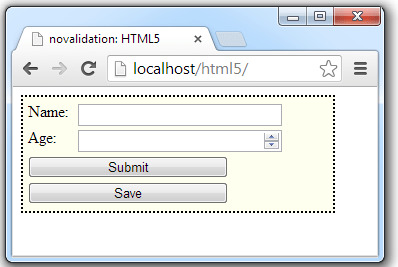_form_: (1, 1, 398, 267)
button: (28, 156, 229, 178), (28, 182, 228, 204)
field: (106, 55, 342, 82), (77, 102, 282, 127)
field_with_label: (28, 127, 286, 154), (27, 101, 283, 127)
select: (76, 129, 284, 153)
